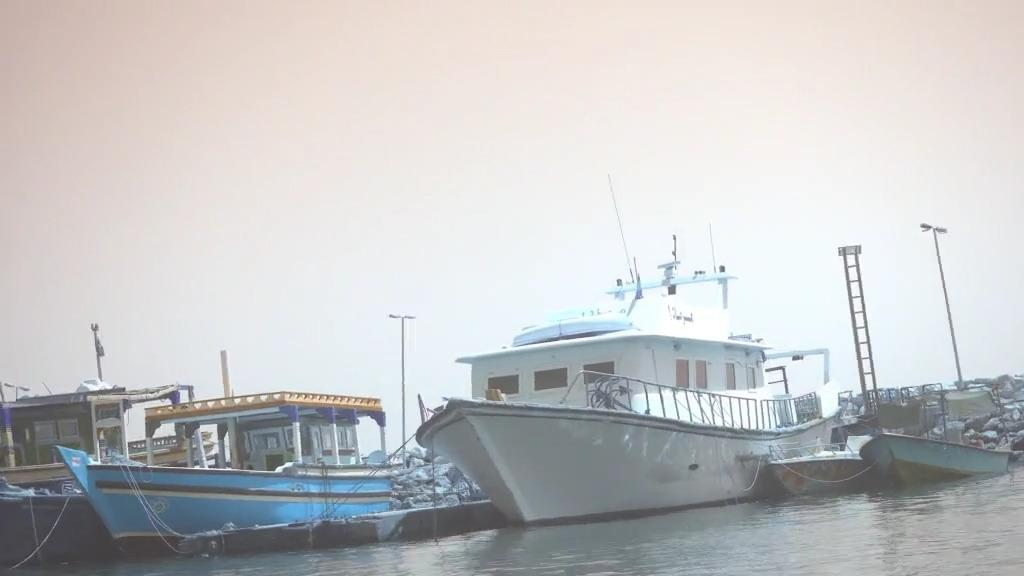PassengerShip: (410, 235, 844, 529), (54, 372, 396, 552)
